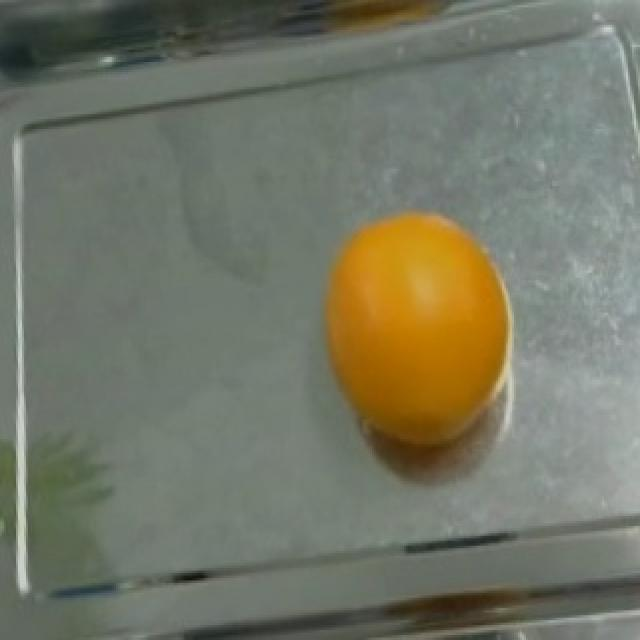Fruit: (312, 196, 524, 501), (254, 0, 496, 60)
